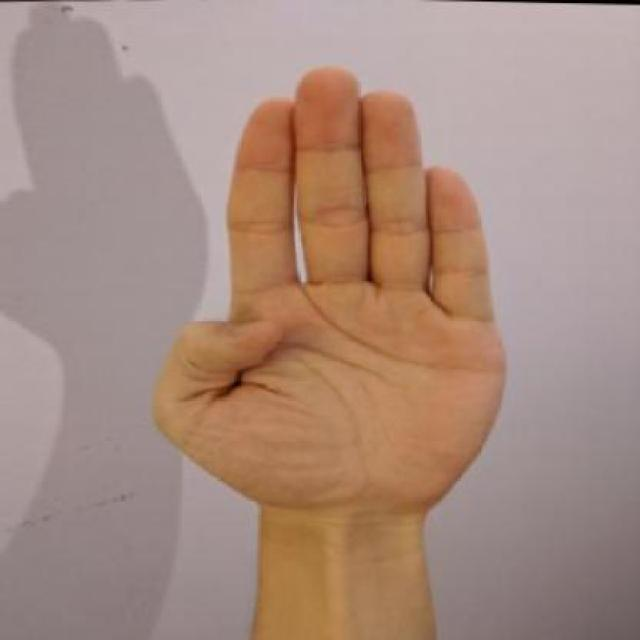B: (124, 42, 536, 546)
